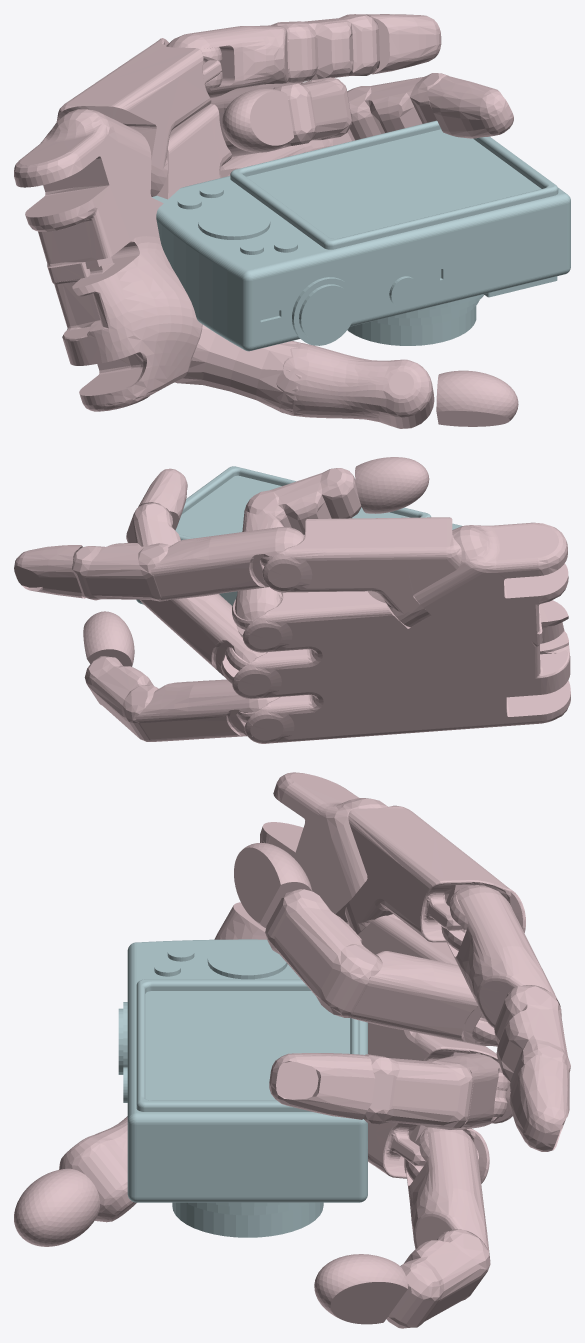
The model's file is grasp_5.glb.
3 renders of one model, top to bottom at view 1: azimuth 30°, elevation 25°; view 2: azimuth 150°, elevation 25°; view 3: azimuth 270°, elevation 25°, orthographic. The views are drawn at different scales.
Visible parts, largest first — view 1: world; view 2: world; view 3: world.
Boxes of the visible parts, bbox=[...] form: world: bbox=[14, 14, 570, 428]; world: bbox=[14, 457, 570, 743]; world: bbox=[14, 772, 570, 1328].
Bounding box in the file's own units: 0.1848 × 0.1021 × 0.1499.
